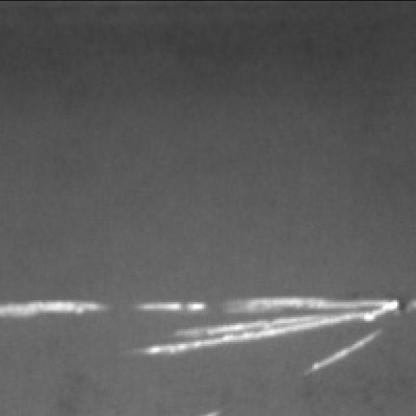scratches: (141, 294, 416, 379), (4, 295, 108, 333)
